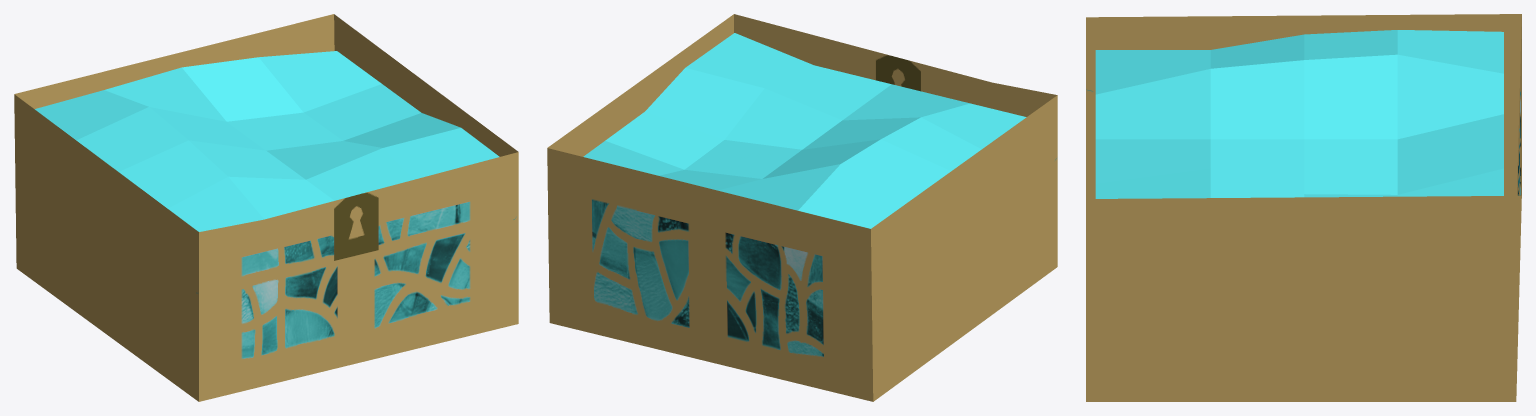
The model's file is chestBottom3.glb.
3 views of the same model, side by side, from view 1: azimuth 30°, elevation 25°; view 2: azimuth 150°, elevation 25°; view 3: azimuth 270°, elevation 25° (orthographic). The views are drawn at different scales.
Visible parts, largest first — view 1: Cube; view 2: Cube; view 3: Cube.
Part boxes in pixels (x1=…): Cube: x1=14, y1=14, x2=518, y2=401; Cube: x1=547, y1=14, x2=1057, y2=401; Cube: x1=1086, y1=14, x2=1521, y2=401.
Size of the model in its own units: 1 by 0.5329 by 1.
Materials: 2 (1 with a texture image).
